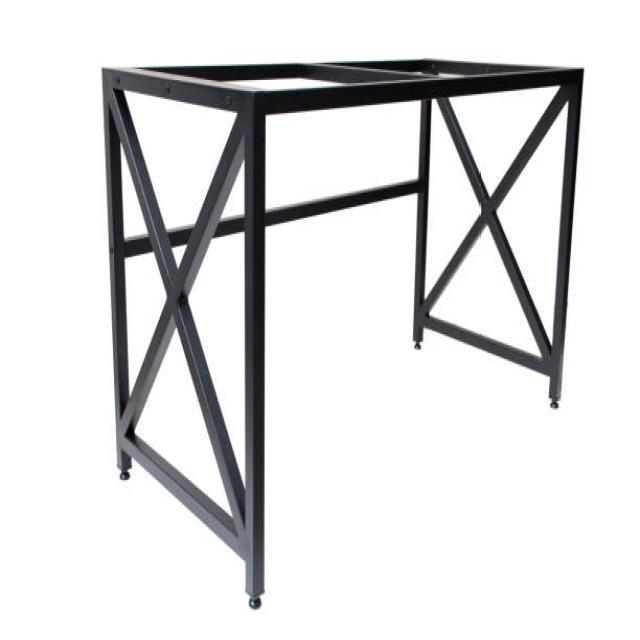table: (101, 58, 584, 609)
